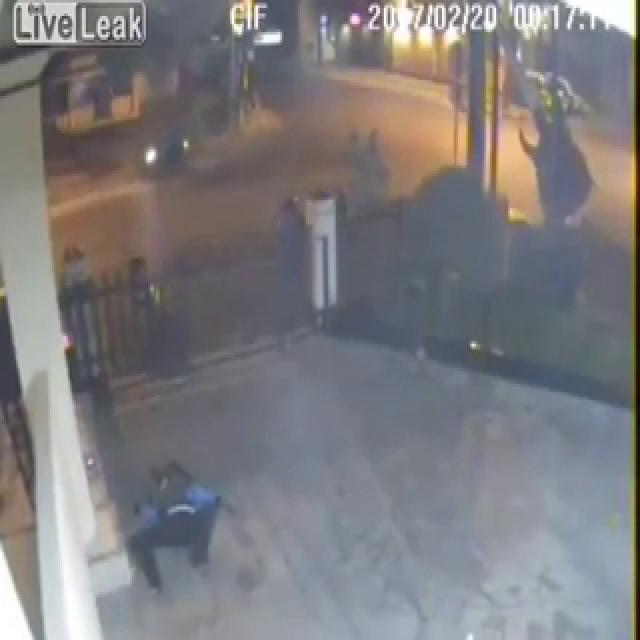road accidents: (258, 7, 537, 405)
